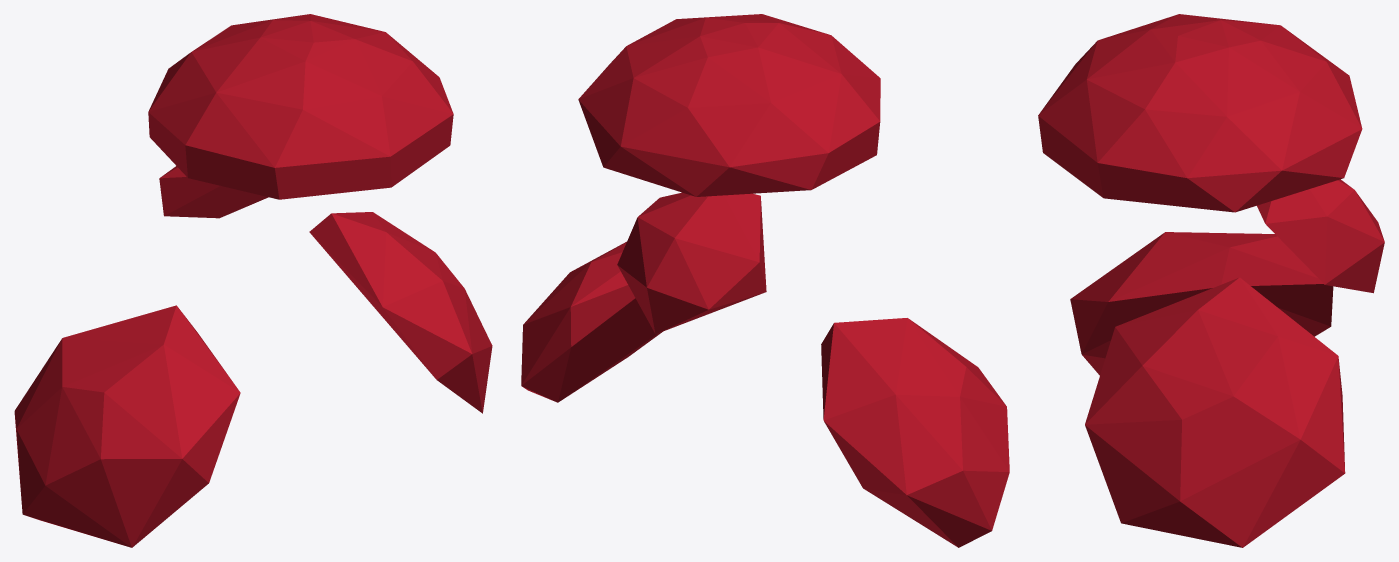
File: tree-dead-leaves-002.glb
The picture shows the model from 3 angles, left to right: view 1: azimuth 30°, elevation 25°; view 2: azimuth 150°, elevation 25°; view 3: azimuth 270°, elevation 25°; orthographic projection. The views are drawn at different scales.
Parts seen in each view (by area): view 1: Circle.059_427; view 2: Circle.059_427; view 3: Circle.059_427.
Part boxes in pixels (<box>): Circle.059_427: <box>14,14,492,547</box>; Circle.059_427: <box>521,14,1009,547</box>; Circle.059_427: <box>1038,14,1384,547</box>.
Bounding box in the file's own units: 1 × 0.9296 × 0.6198.
